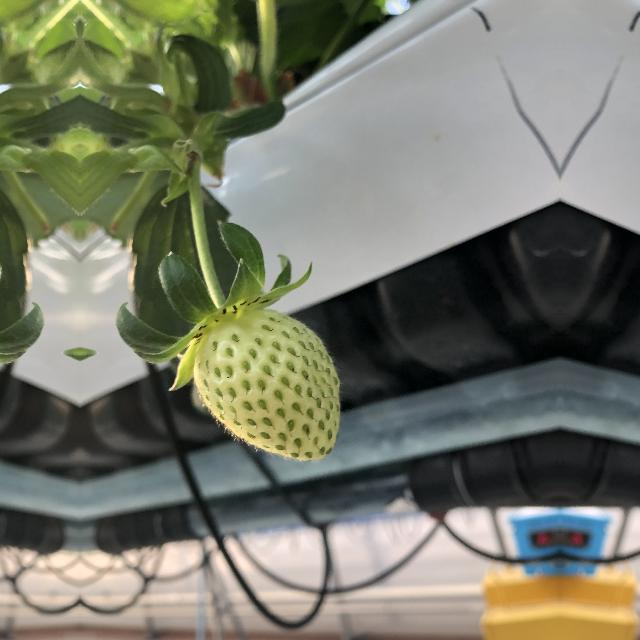Health_25: (190, 301, 354, 473)
